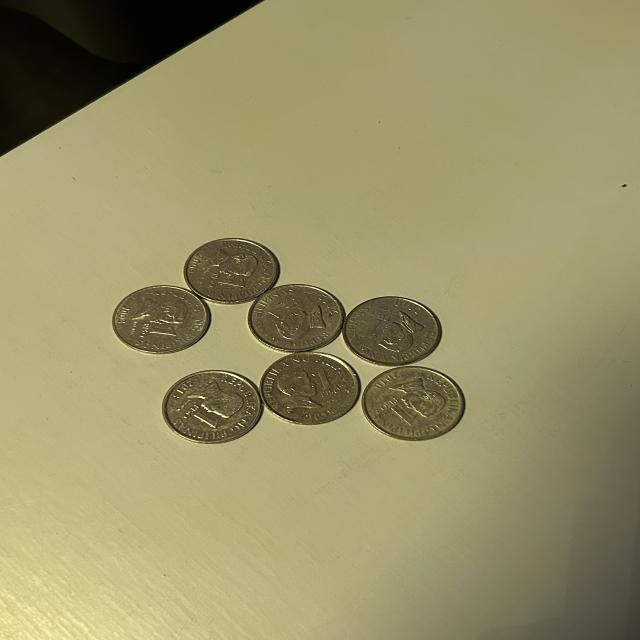1_Old_Front: (178, 403, 221, 434), (308, 365, 342, 402), (207, 270, 255, 296), (137, 321, 179, 348), (382, 398, 416, 428), (265, 297, 305, 319), (367, 310, 389, 343)
